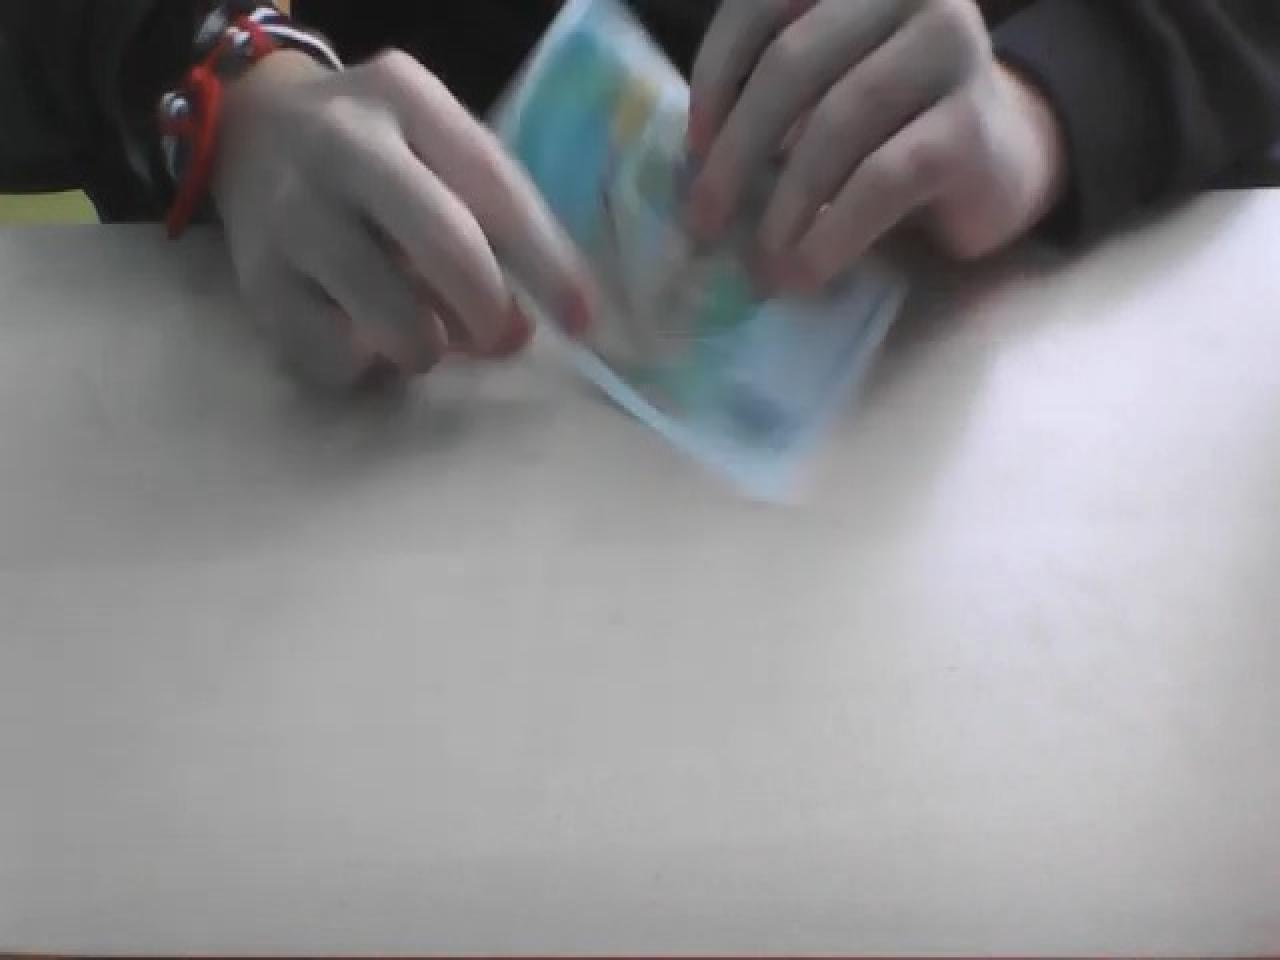100leva: (484, 0, 914, 499)
